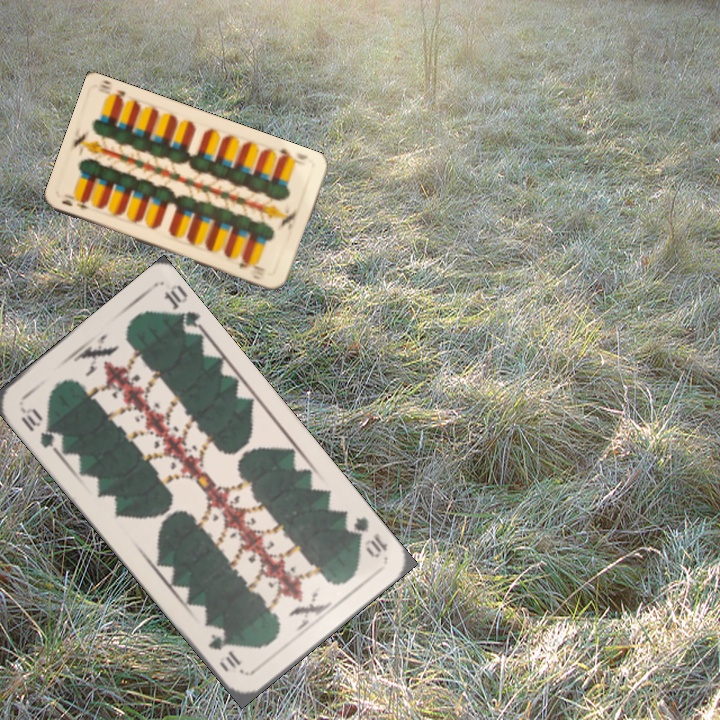E10: (274, 144, 311, 163), (57, 195, 92, 212)
G10: (346, 512, 391, 561), (16, 403, 59, 454)
